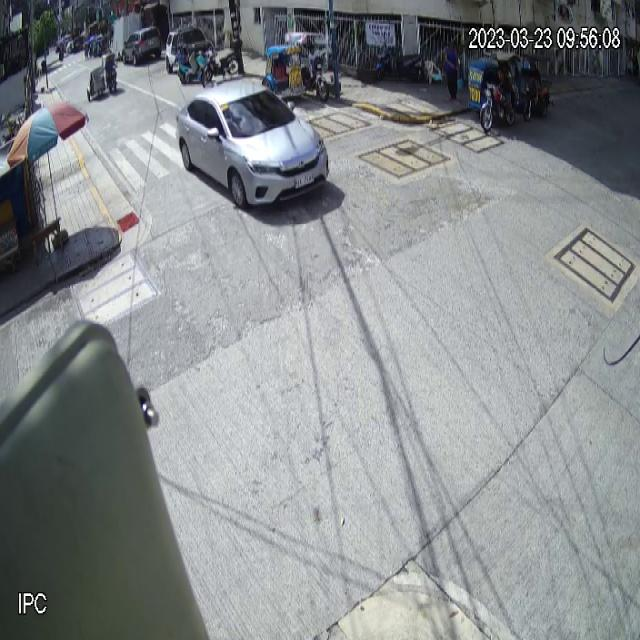Car: (174, 82, 330, 212)
Tricycle: (261, 31, 330, 107), (466, 51, 524, 133)
